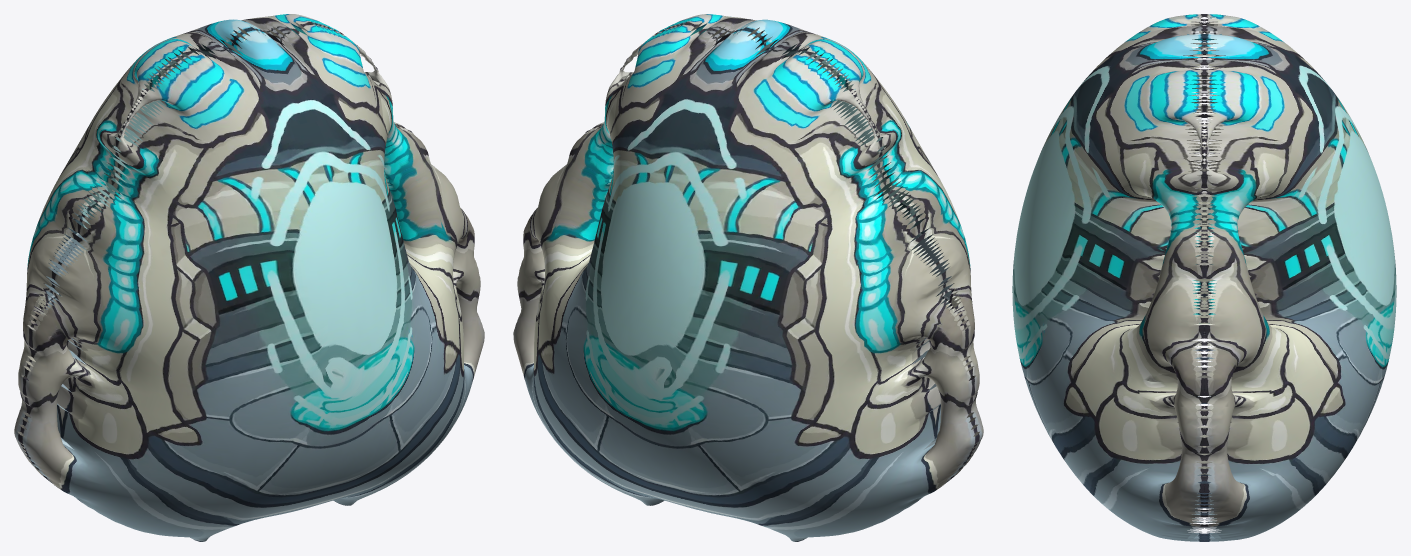
The model's file is portal_machine.glb.
3 renders of one model, left to right at view 1: azimuth 30°, elevation 25°; view 2: azimuth 150°, elevation 25°; view 3: azimuth 270°, elevation 25°, orthographic. The views are drawn at different scales.
Parts seen in each view (by area): view 1: portal_machine; view 2: portal_machine; view 3: portal_machine.
Part boxes in pixels (<box>): portal_machine: <box>14,14,484,541</box>; portal_machine: <box>513,14,983,541</box>; portal_machine: <box>1012,14,1396,541</box>.
Bounding box in the file's own units: 0.9887 × 0.9762 × 0.7394.
Materials: 1 (1 with a texture image).
